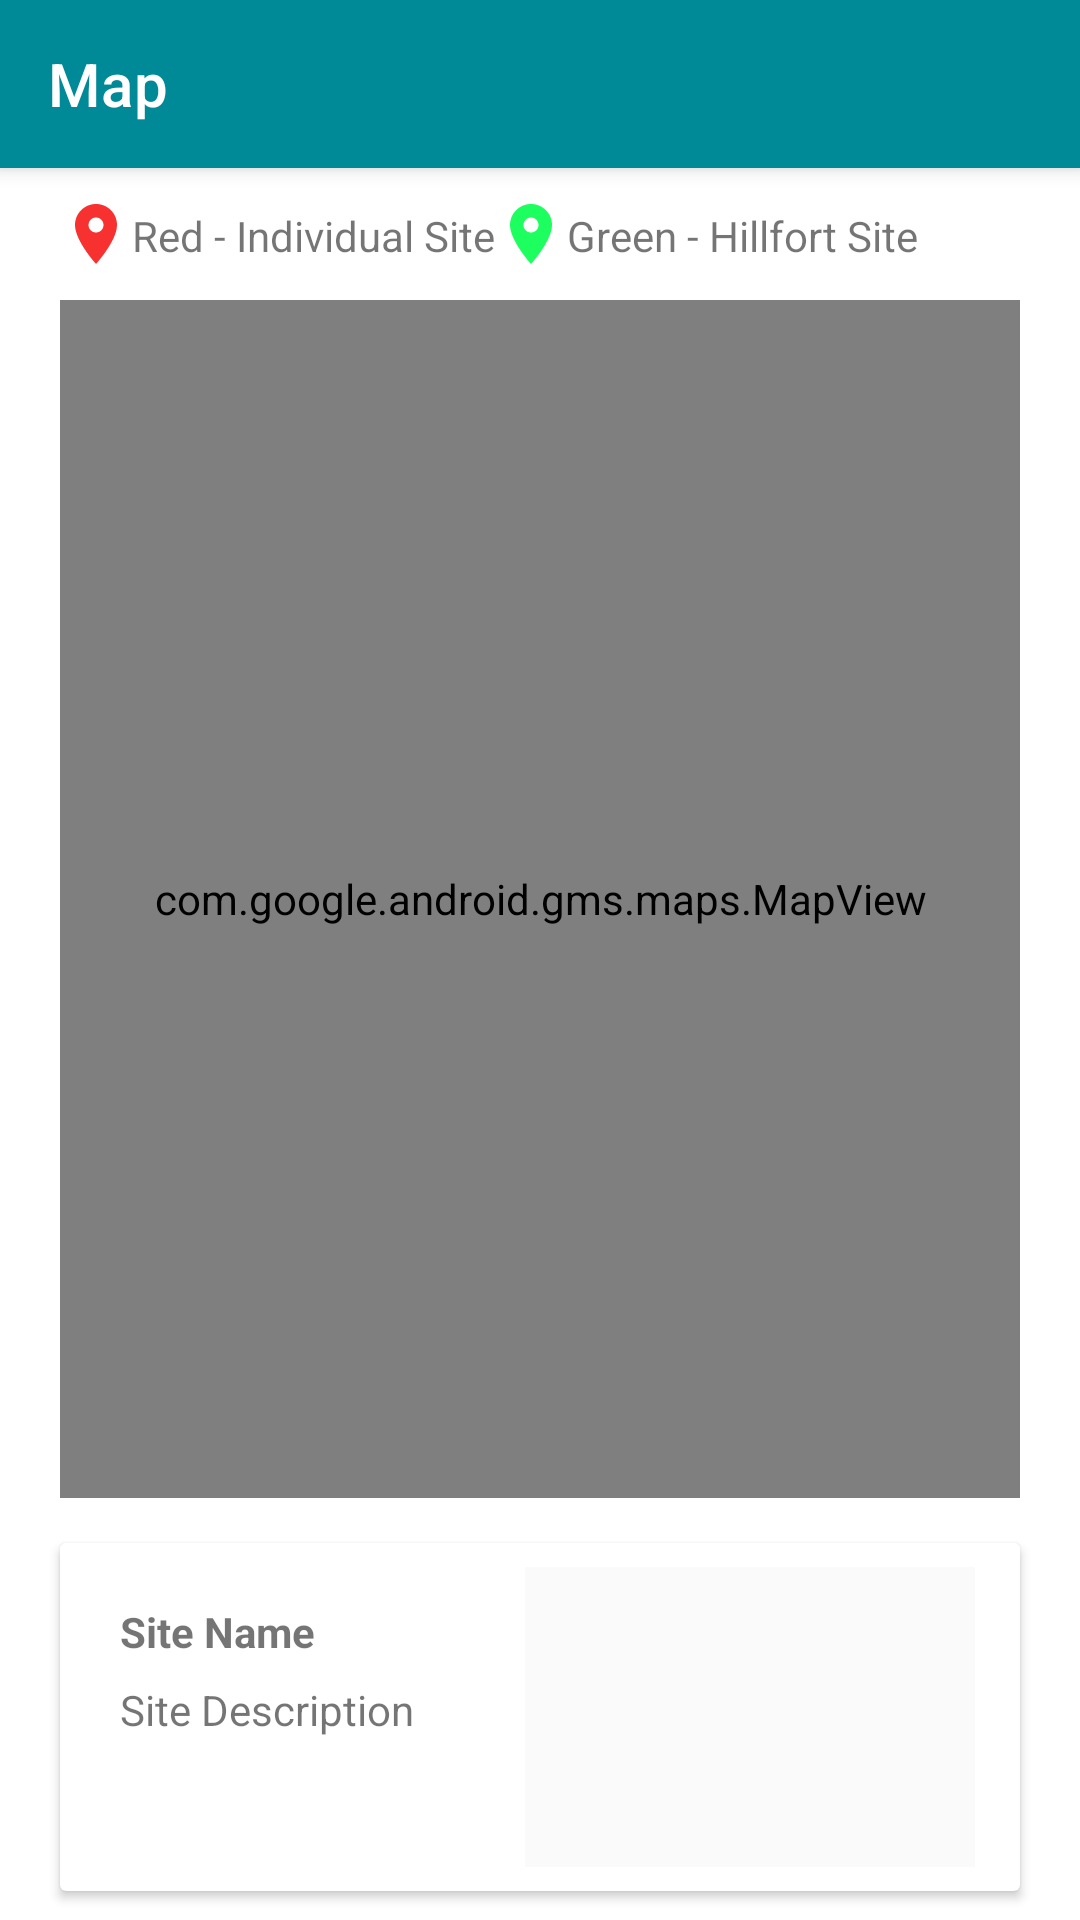

Where to tap for icons on this 1080×1920 app screen, as (x=x, y=y):
location on: (x=96, y=234), (x=531, y=234)
